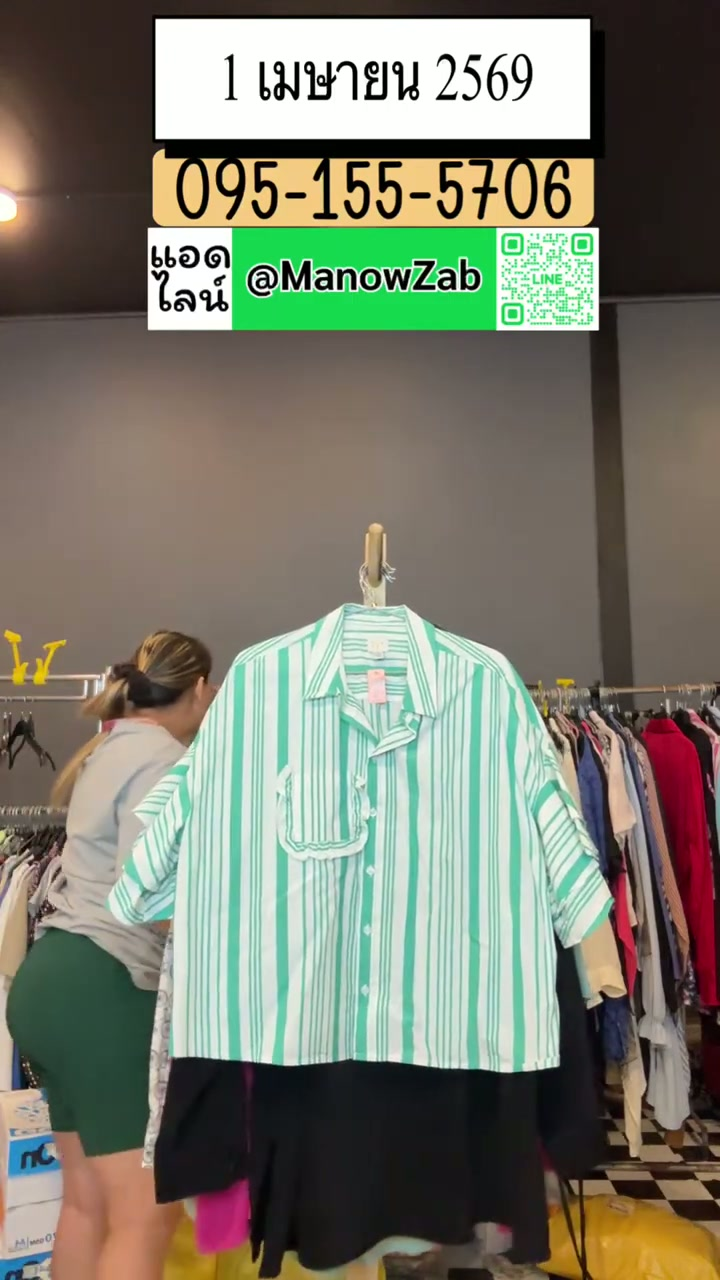display_shirt: (110, 604, 612, 1073)
